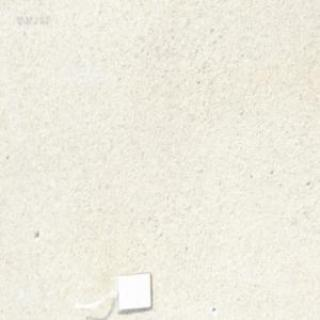LuggageTagtrack_idkeyframe: (72, 268, 152, 312)
